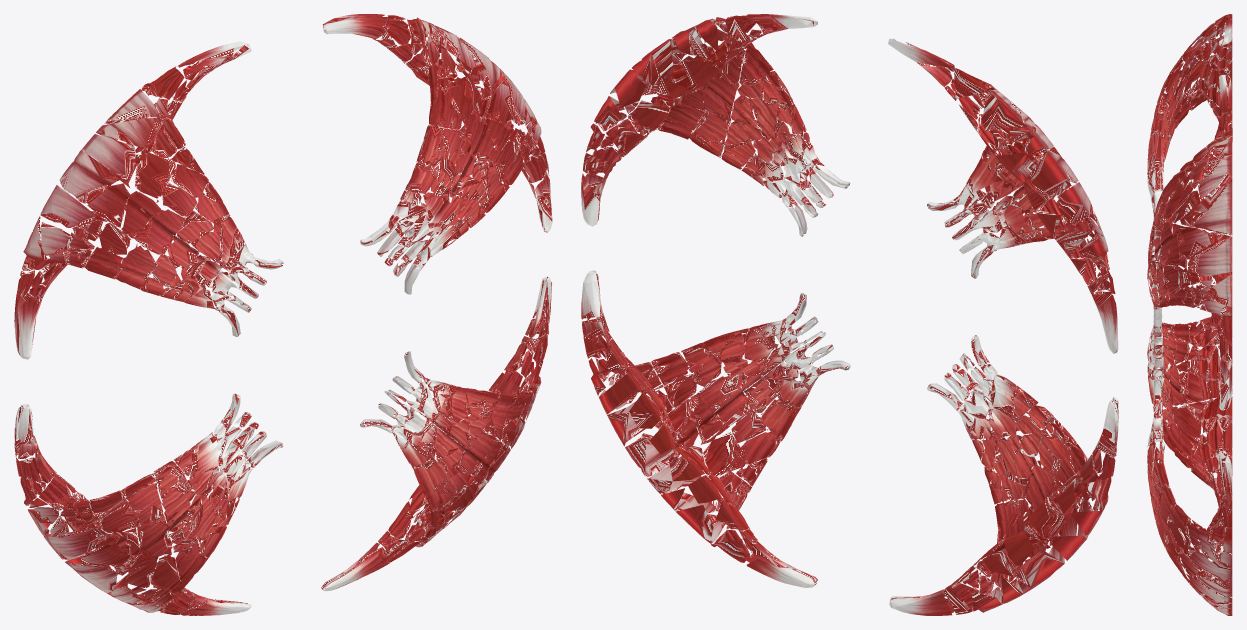
Rendered from musculos.glb.
The picture shows the model from 3 angles, left to right: view 1: azimuth 30°, elevation 25°; view 2: azimuth 150°, elevation 25°; view 3: azimuth 270°, elevation 25°; orthographic projection. The views are drawn at different scales.
Visible parts, largest first — view 1: musculos; view 2: musculos; view 3: musculos.
Boxes of the visible parts, x1,y1,x2,y2 form: musculos: [14, 14, 552, 615]; musculos: [581, 14, 1118, 615]; musculos: [1147, 14, 1232, 615].
Size of the model in its own units: 0.3335 by 0.3391 by 0.0507.
Materials: 1 (1 with a texture image).
